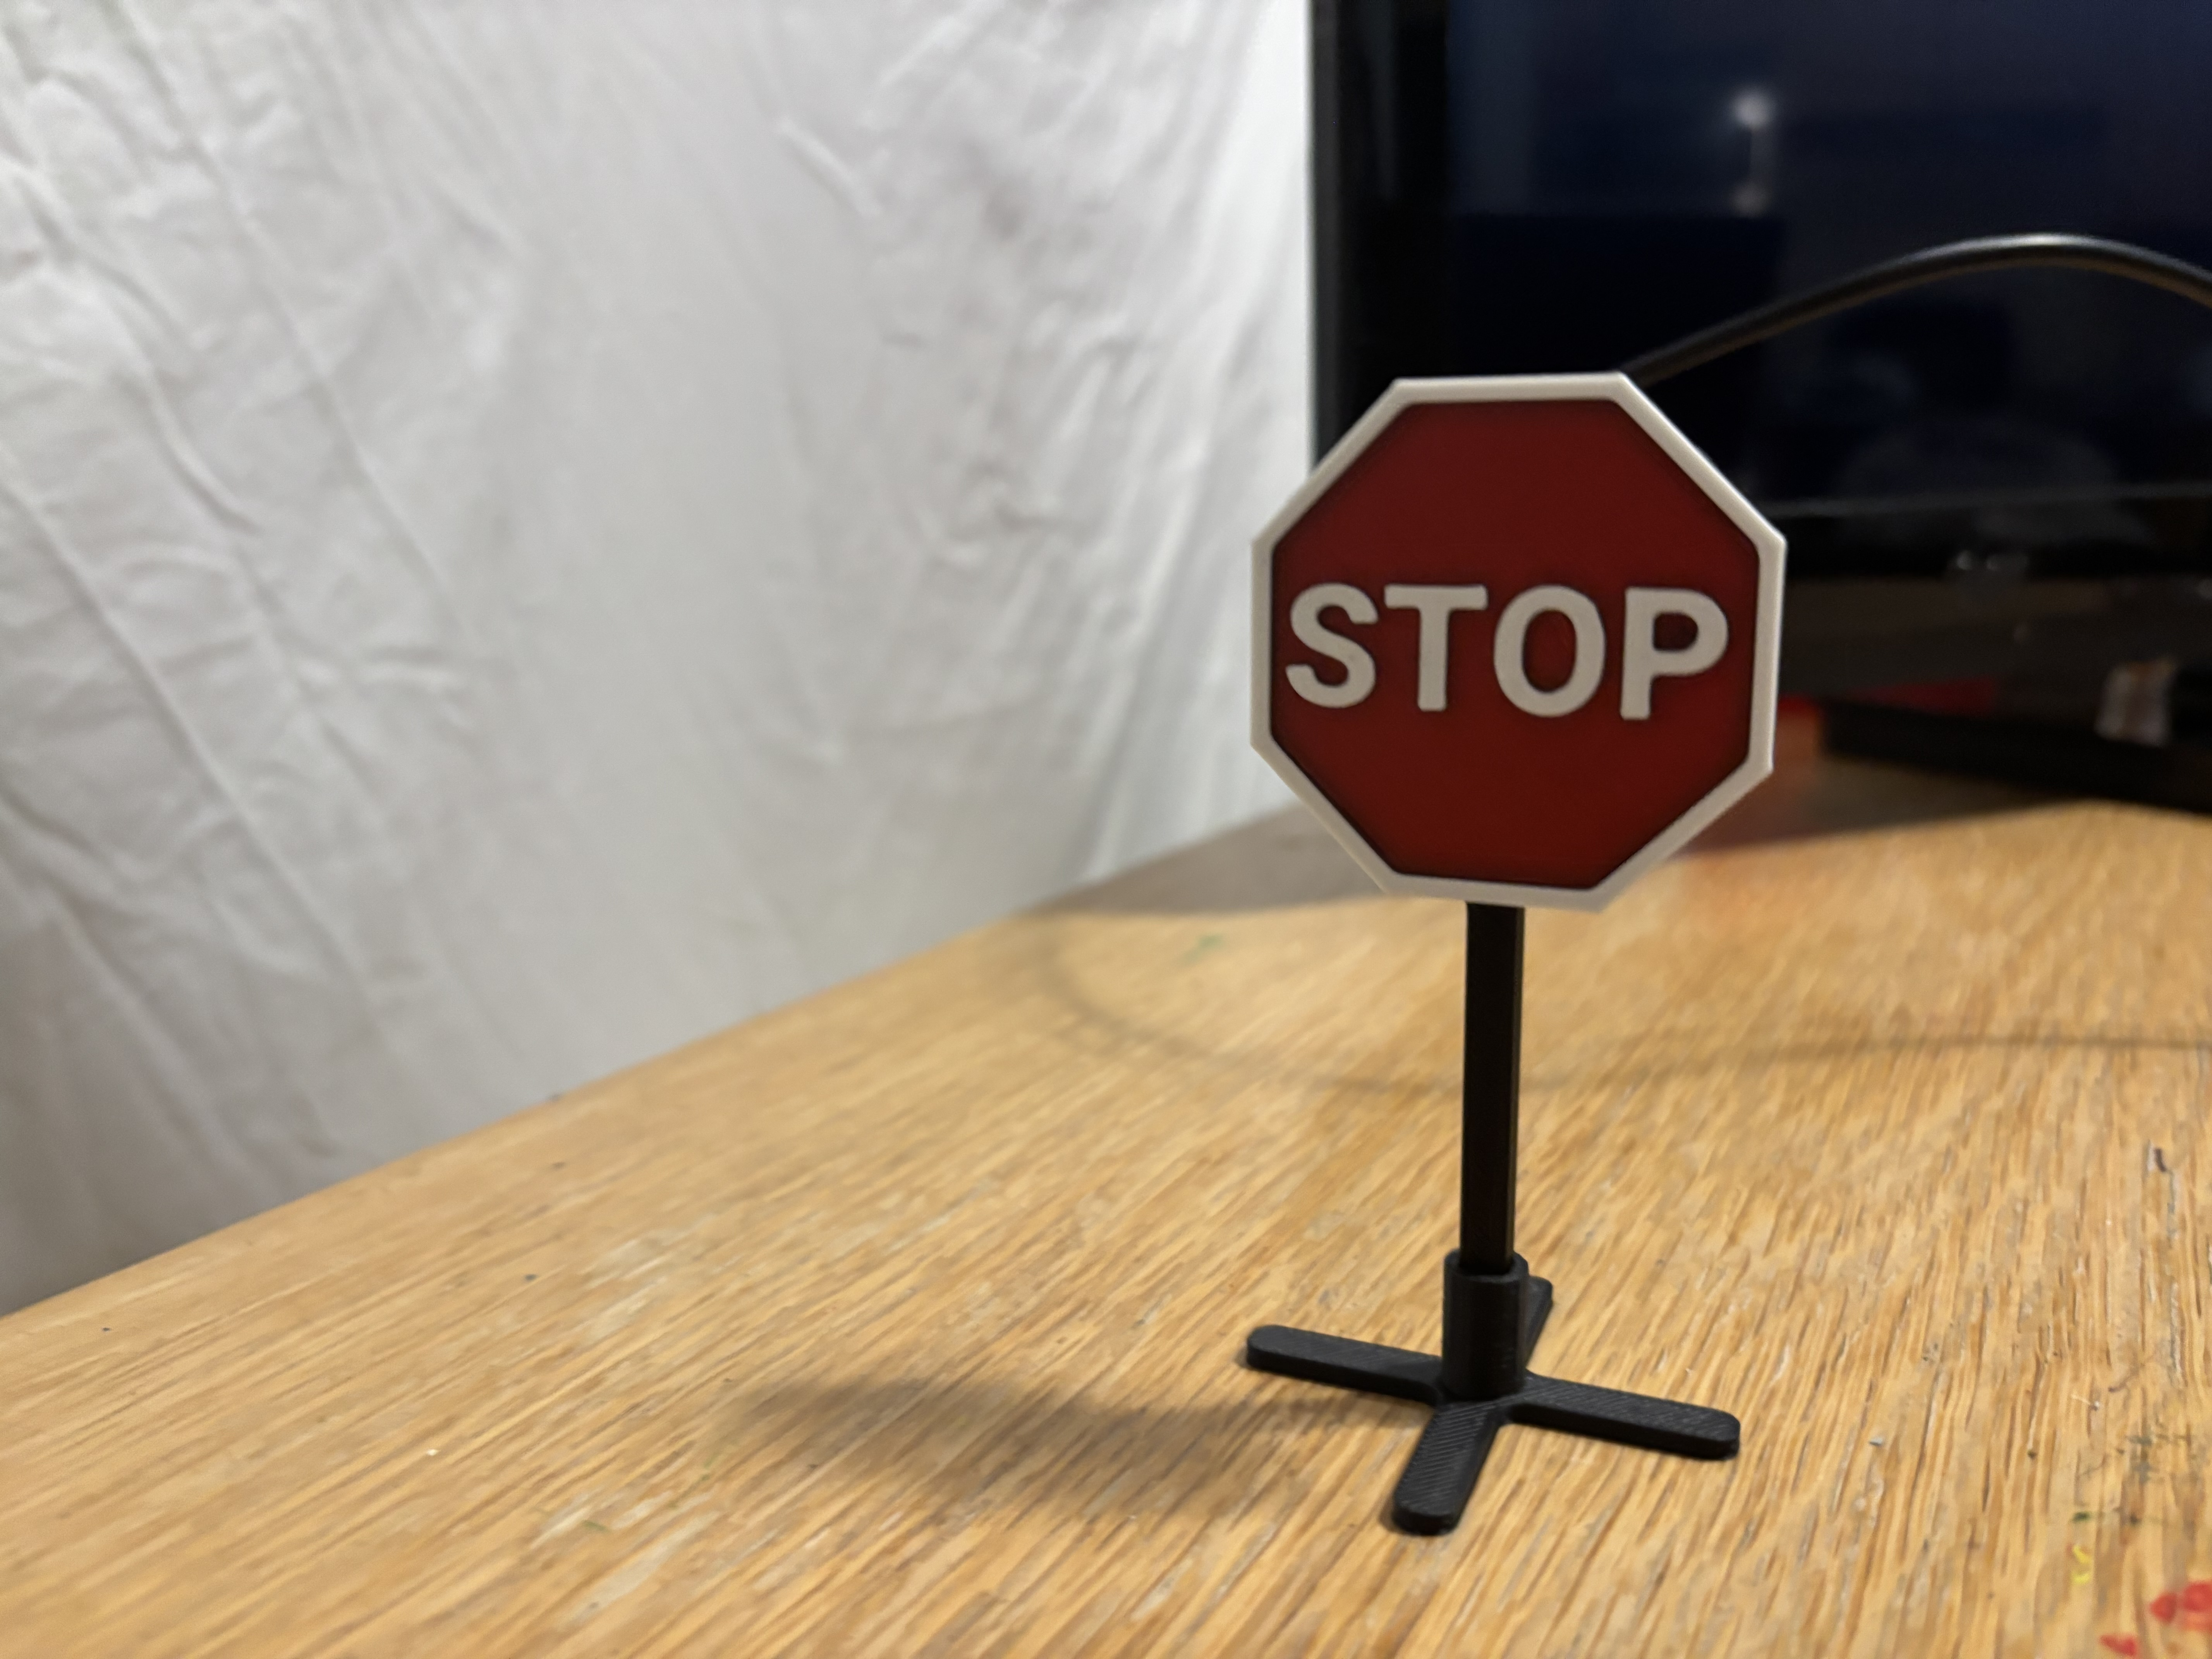sign_stop: (1231, 369, 1791, 920)
